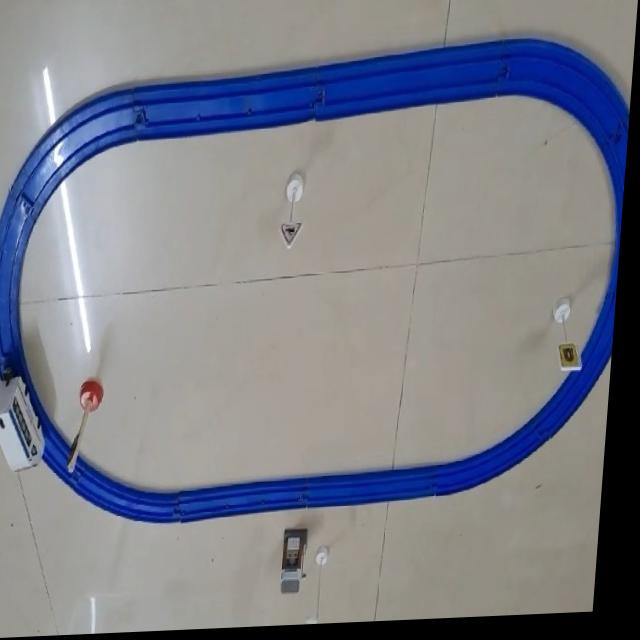bus: (0, 359, 63, 482)
